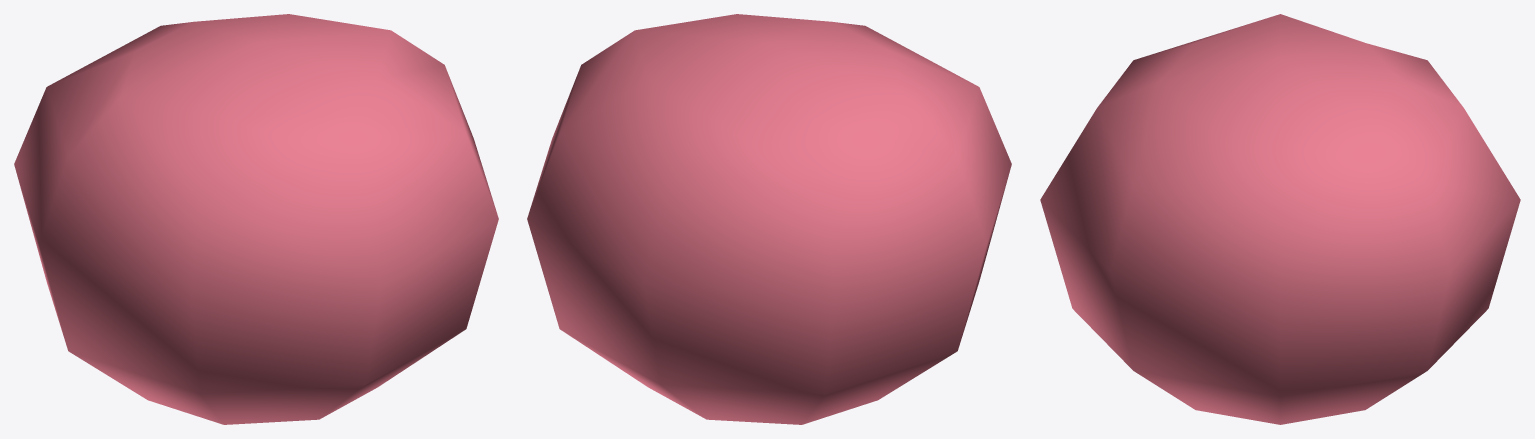
The model's file is Orange.fbx.
The picture shows the model from 3 angles, left to right: view 1: azimuth 30°, elevation 25°; view 2: azimuth 150°, elevation 25°; view 3: azimuth 270°, elevation 25°; orthographic projection. The views are drawn at different scales.
Parts seen in each view (by area): view 1: Orange; view 2: Orange; view 3: Orange.
Part boxes in pixels (x1,y1,x2,y2): Orange: [14, 14, 498, 424]; Orange: [527, 14, 1011, 424]; Orange: [1040, 14, 1520, 424].
Bounding box in the file's own units: 8 × 5.98 × 8.
